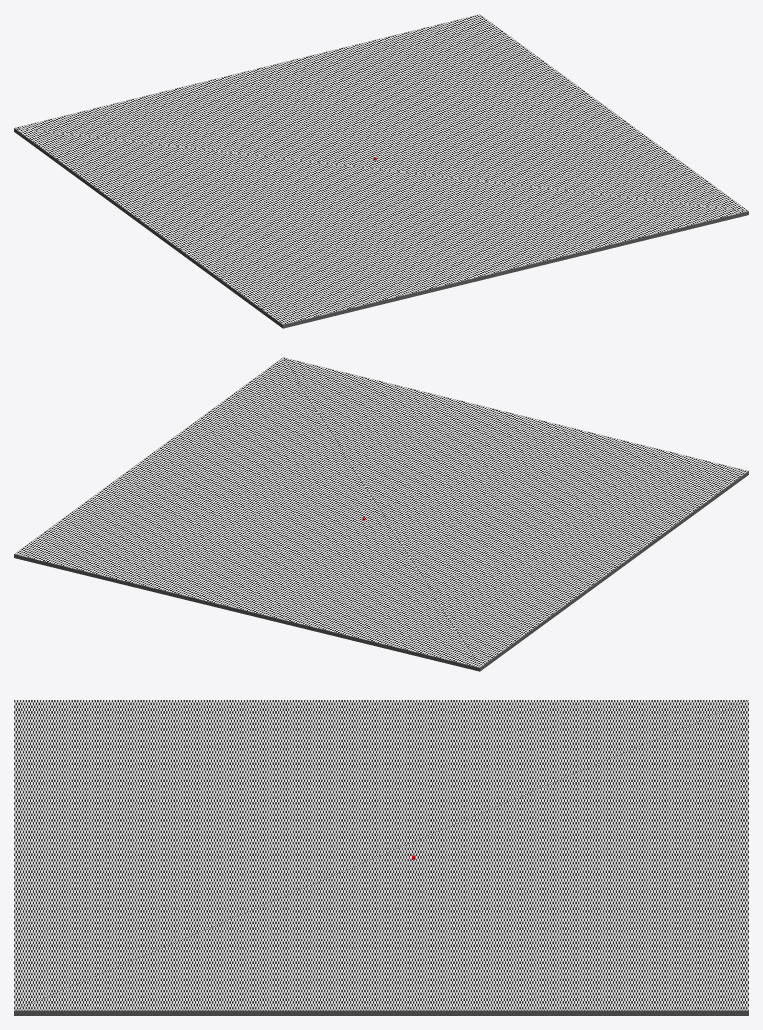
File: maps_roblox.glb
3 renders of one model, top to bottom at view 1: azimuth 30°, elevation 25°; view 2: azimuth 150°, elevation 25°; view 3: azimuth 270°, elevation 25°, orthographic. The views are drawn at different scales.
Visible parts, largest first — view 1: Texture, Baseplate; view 2: Texture, Baseplate; view 3: Texture, Baseplate.
Part boxes in pixels (bbox=[...]): Texture: bbox=[14, 14, 748, 324]; Baseplate: bbox=[14, 128, 748, 328]; Texture: bbox=[14, 357, 748, 667]; Baseplate: bbox=[14, 471, 748, 671]; Texture: bbox=[14, 700, 748, 1010]; Baseplate: bbox=[14, 1010, 748, 1015].
Bounding box in the file's own units: 2048 × 24 × 2048.
3 materials, 1 textured.
